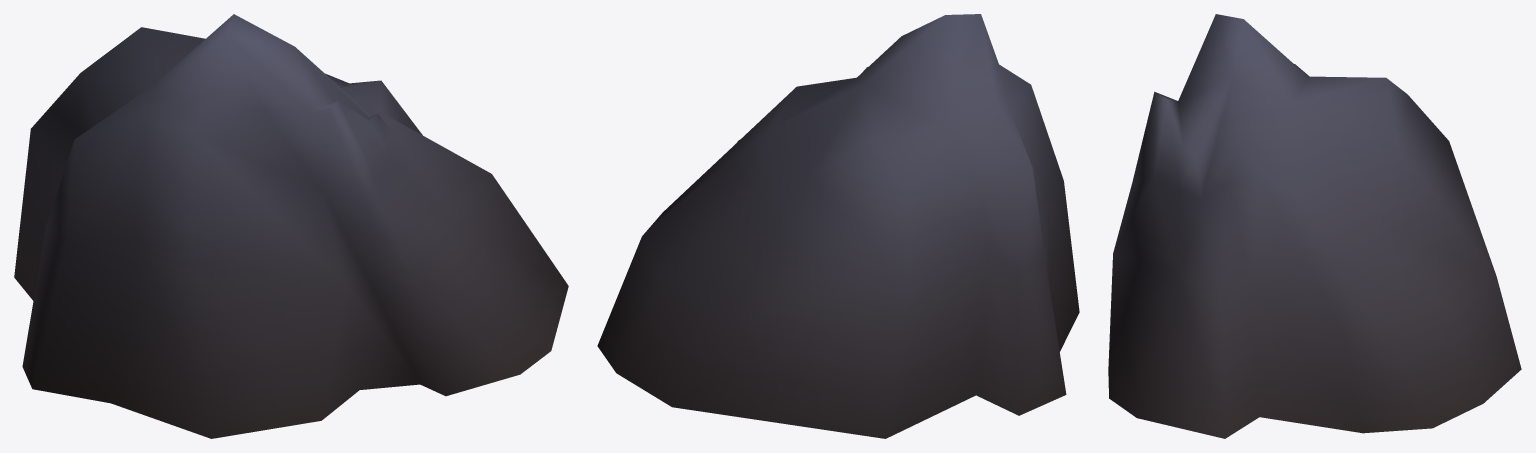
The model's file is rocks01_a_dry.glb.
3 renders of one model, left to right at view 1: azimuth 30°, elevation 25°; view 2: azimuth 150°, elevation 25°; view 3: azimuth 270°, elevation 25°, orthographic. The views are drawn at different scales.
Visible parts, largest first — view 1: Cube; view 2: Cube; view 3: Cube.
Part boxes in pixels (left/top/right/bottom): Cube: left=14, top=14, right=568, bottom=438; Cube: left=597, top=14, right=1079, bottom=438; Cube: left=1108, top=14, right=1521, bottom=438.
Bounding box in the file's own units: 6.04 × 4.27 × 5.24.
Materials: 1 (1 with a texture image).
